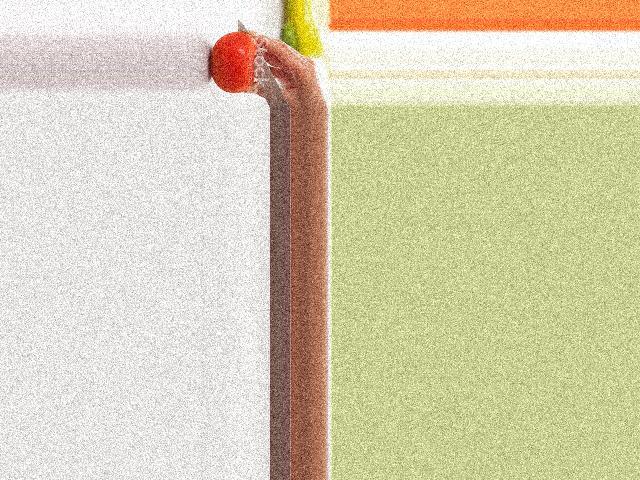tomato: (209, 31, 257, 94)
